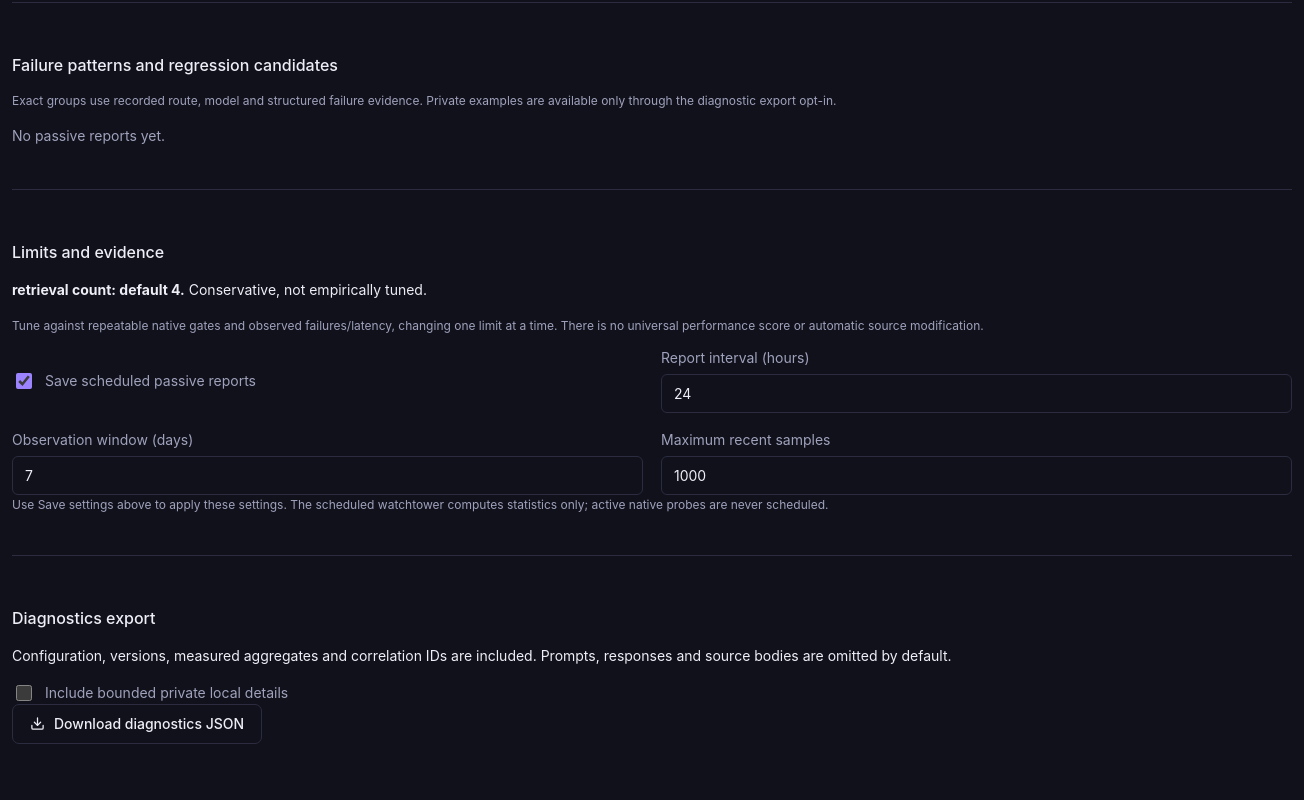
Test: local watchtower › shows sample denominators, unavailable measurements and explicit private export
(page scrolled)
Click the checkbox labelled "Include bounded private local details" at (24, 693), box [16,685,32,701]
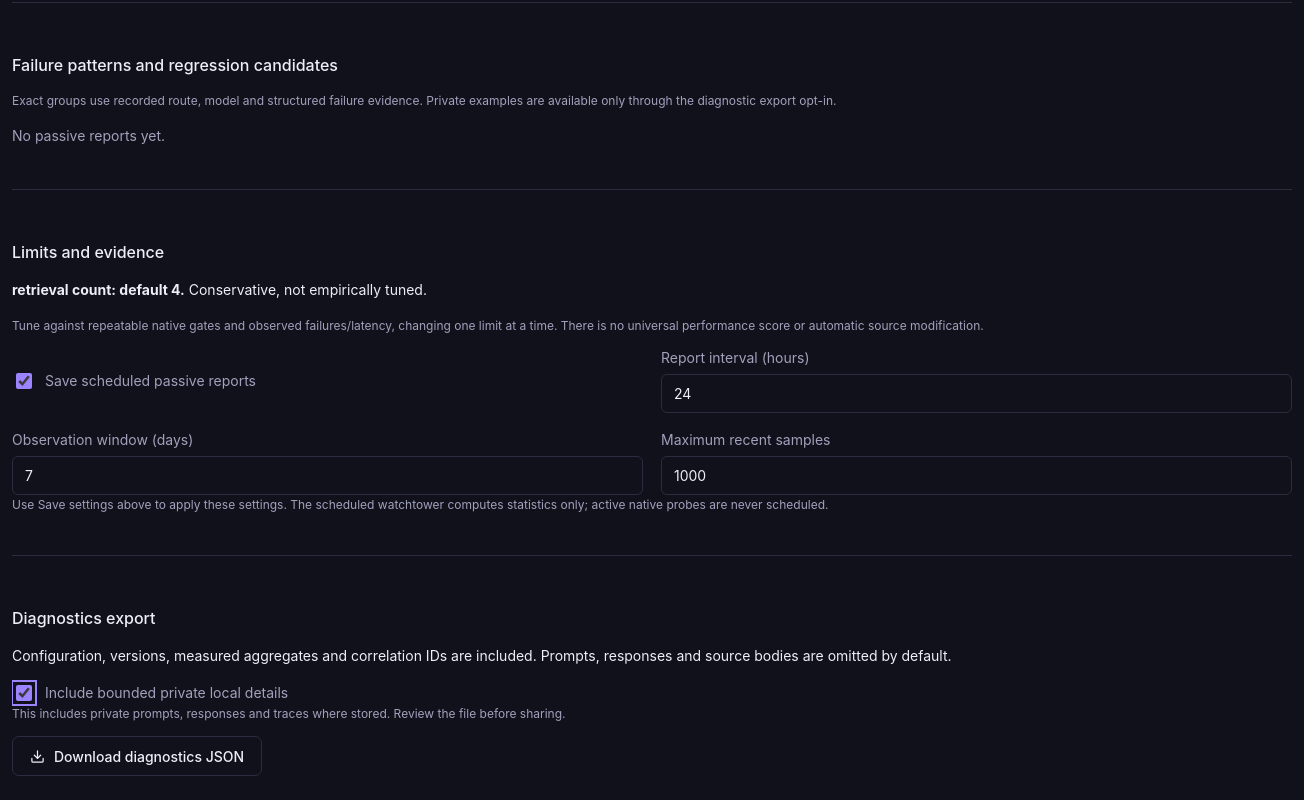
Result: the text "Review the file before sharing" is shown at [12,706,566,721]
